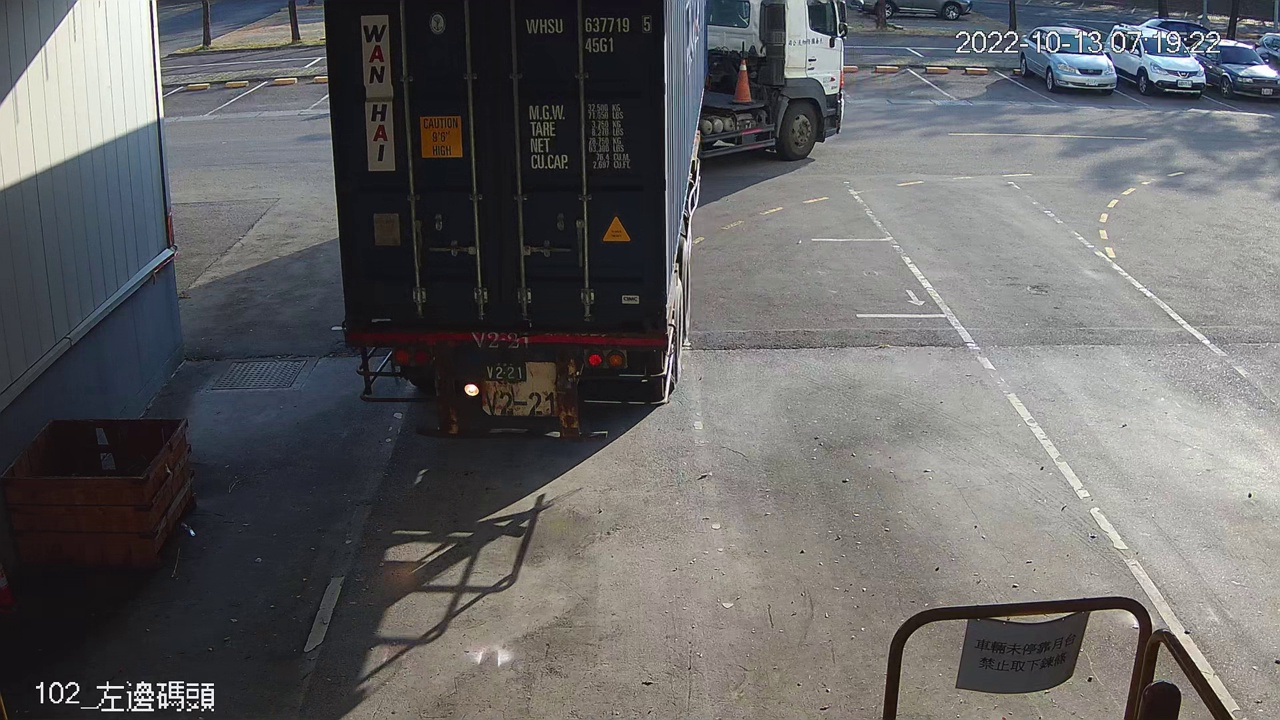container: (519, 7, 658, 57)
